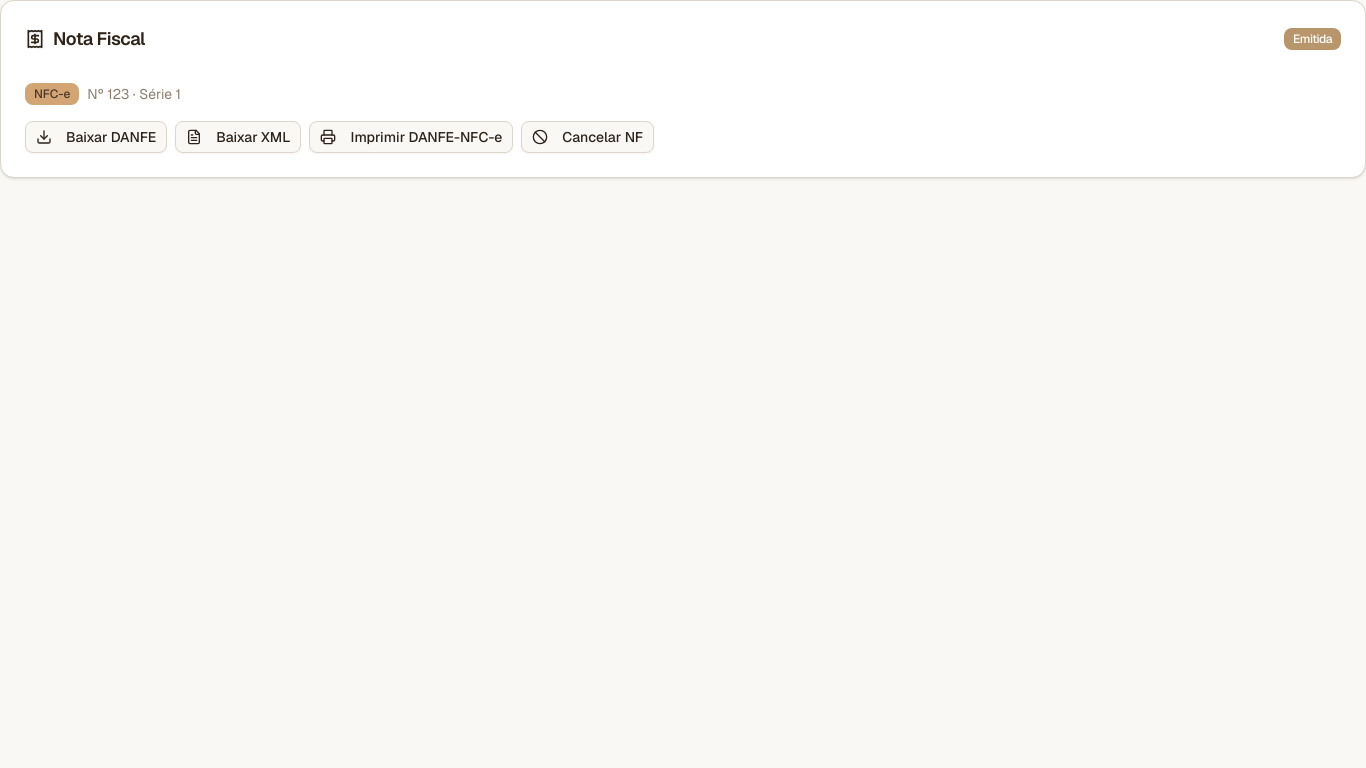
Test: NfSection cancellation › shows the SEFAZ spinner label while cancelling
Click the button "Cancelar NF": x=588, y=137 [521, 121, 654, 153]
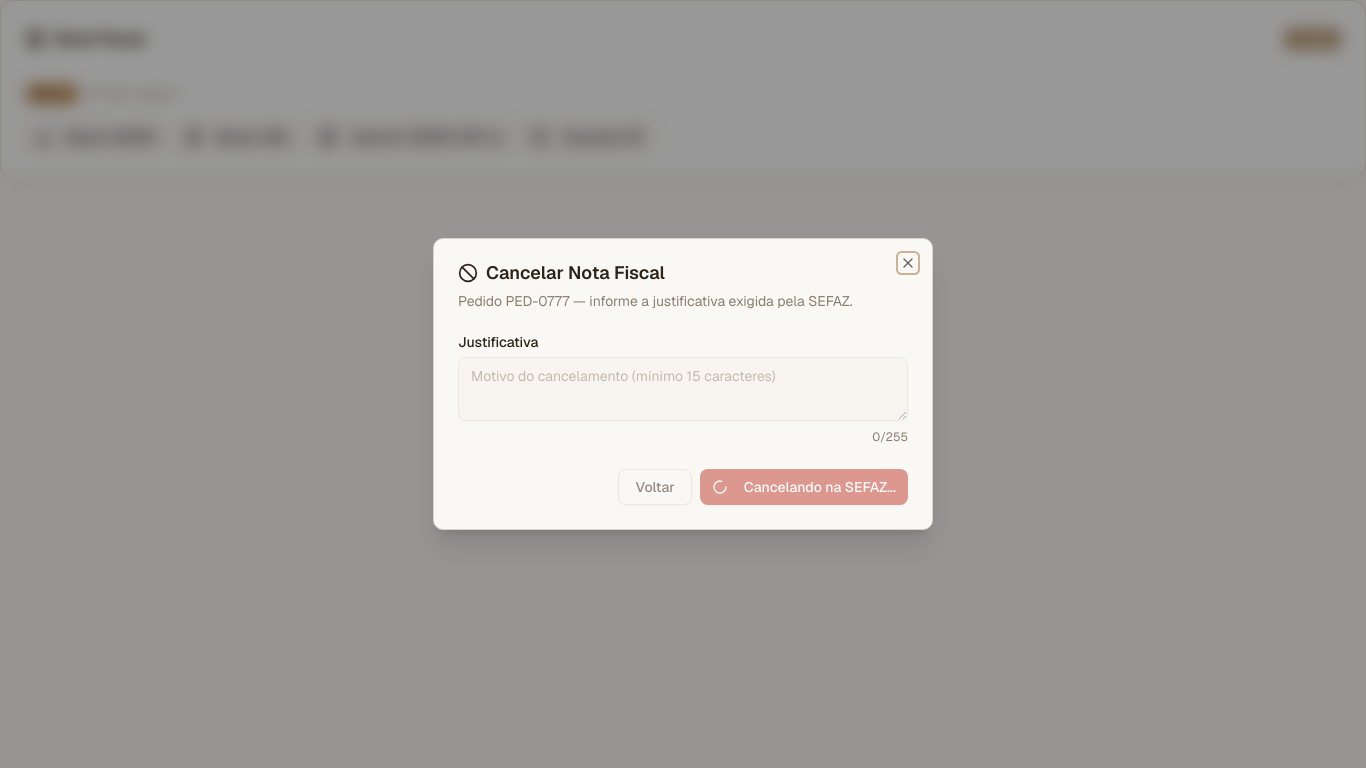
Now the button "Cancelando na SEFAZ..." is shown, box [700, 469, 908, 505]
